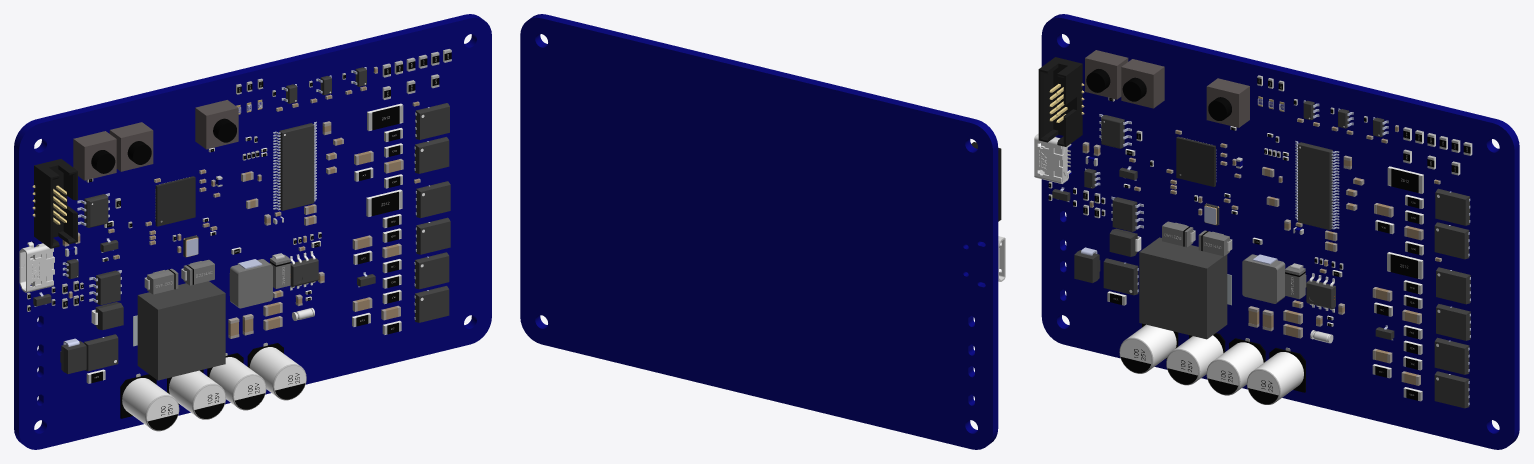
File: foc-esc-board.glb
3 renders of one model, left to right at view 1: azimuth 30°, elevation 25°; view 2: azimuth 150°, elevation 25°; view 3: azimuth 330°, elevation 25°, orthographic.
Parts seen in each view (by area): view 1: PCB, =>[0:1:1:2], NAUO2, NAUO_NAME49; view 2: PCB; view 3: PCB, =>[0:1:1:2], NAUO2, NAUO_NAME49.
Part boxes in pixels (bbox=[...]): PCB: bbox=[14, 14, 491, 449]; =>[0:1:1:2]: bbox=[137, 281, 225, 380]; NAUO2: bbox=[34, 159, 77, 248]; NAUO_NAME49: bbox=[290, 258, 318, 286]; PCB: bbox=[520, 14, 1005, 449]; PCB: bbox=[1034, 14, 1519, 449]; =>[0:1:1:2]: bbox=[1139, 237, 1227, 339]; NAUO2: bbox=[1038, 57, 1082, 146]; NAUO_NAME49: bbox=[1306, 280, 1335, 309].
Size of the model in its own units: 0.088 by 0.058 by 0.00964.
